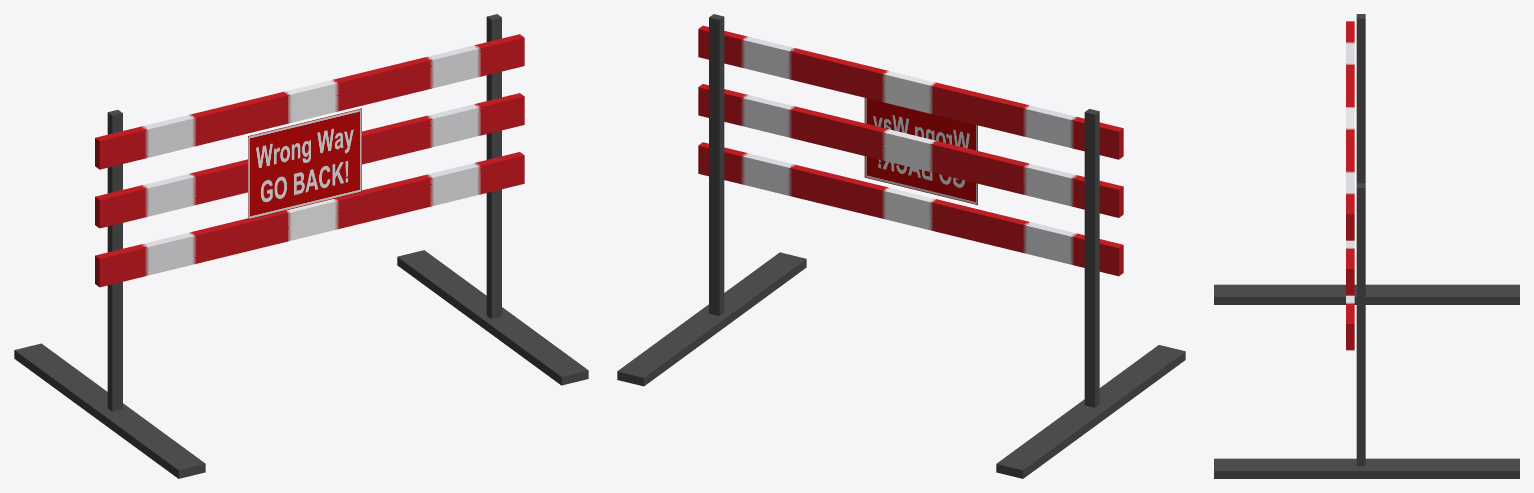
File: block1.glb
3 views of the same model, side by side, from view 1: azimuth 30°, elevation 25°; view 2: azimuth 150°, elevation 25°; view 3: azimuth 270°, elevation 25° (orthographic). The views are drawn at different scales.
Parts seen in each view (by area): view 1: Plane001_Material #63_0; view 2: Plane001_Material #63_0; view 3: Plane001_Material #63_0.
Boxes of the visible parts, <box> form: Plane001_Material #63_0: <box>14,14,588,478</box>; Plane001_Material #63_0: <box>617,14,1185,478</box>; Plane001_Material #63_0: <box>1214,14,1519,478</box>.
Bounding box in the file's own units: 1.04 × 0.7167 × 0.6935.
Materials: 3 (2 with a texture image).
